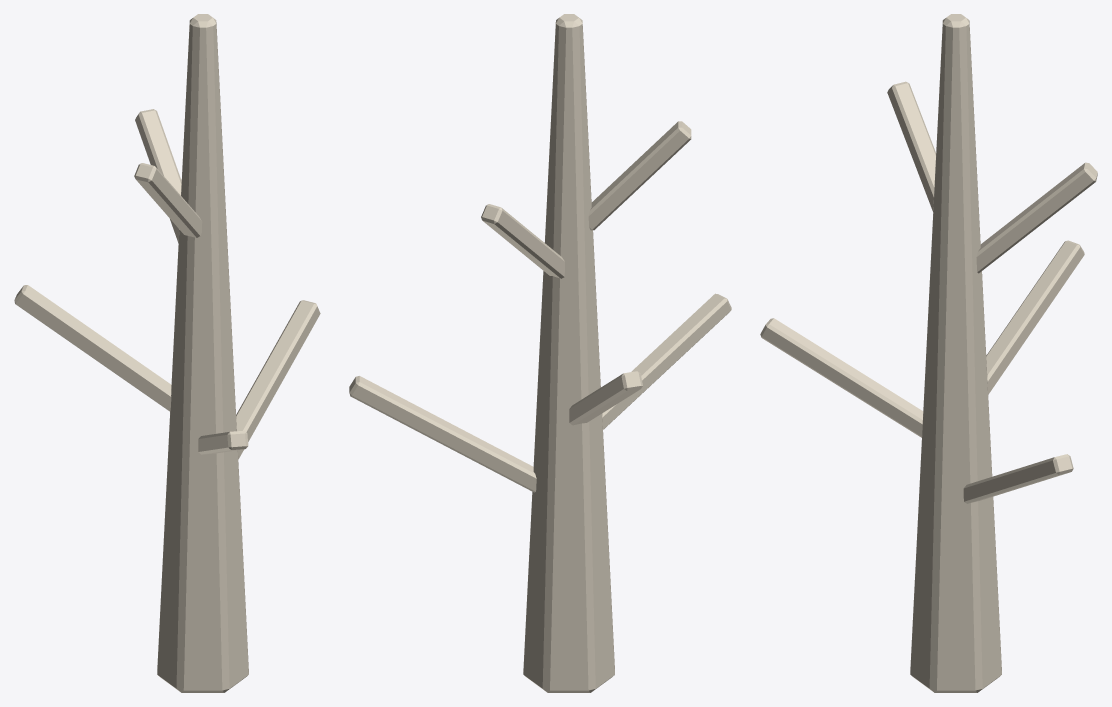
Rendered from pine_bleached_large.glb.
The picture shows the model from 3 angles, left to right: view 1: azimuth 30°, elevation 25°; view 2: azimuth 150°, elevation 25°; view 3: azimuth 270°, elevation 25°; orthographic projection.
Visible parts, largest first — view 1: Trunk, Limb2, Limb1, Limb5, Limb4, Limb3; view 2: Trunk, Limb1, Limb3, Limb5, Limb4, Limb2; view 3: Trunk, Limb3, Limb2, Limb4, Limb5, Limb1.
Boxes of the visible parts, x1,y1,x2,y2 form: Trunk: (157,14,248,692); Limb2: (14,285,171,411); Limb1: (236,300,320,459); Limb5: (134,163,202,237); Limb4: (135,109,181,243); Limb3: (198,430,248,454); Trunk: (523,14,614,692); Limb1: (349,376,536,492); Limb3: (602,293,731,429); Limb5: (588,121,691,230); Limb4: (481,204,564,278); Limb2: (569,371,642,425); Trunk: (910,14,1001,692); Limb3: (760,318,923,437); Limb2: (986,240,1084,394); Limb4: (976,162,1097,273); Limb5: (887,81,936,211); Limb1: (963,454,1073,503).
Size of the model in its own units: 0.8522 by 1.8 by 0.8346.
